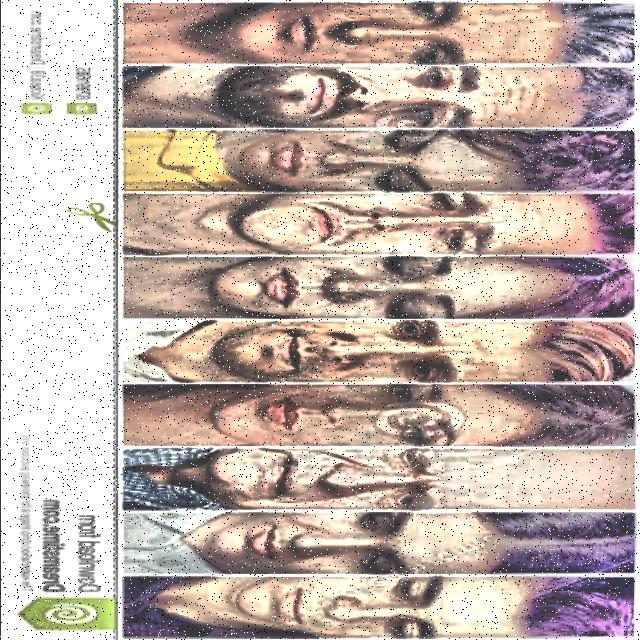sad: (209, 384, 624, 454), (181, 257, 633, 321), (184, 449, 625, 513), (219, 68, 635, 135), (222, 192, 634, 259), (193, 322, 637, 383), (213, 511, 633, 575), (219, 2, 637, 65), (223, 576, 636, 639), (235, 132, 635, 193)
